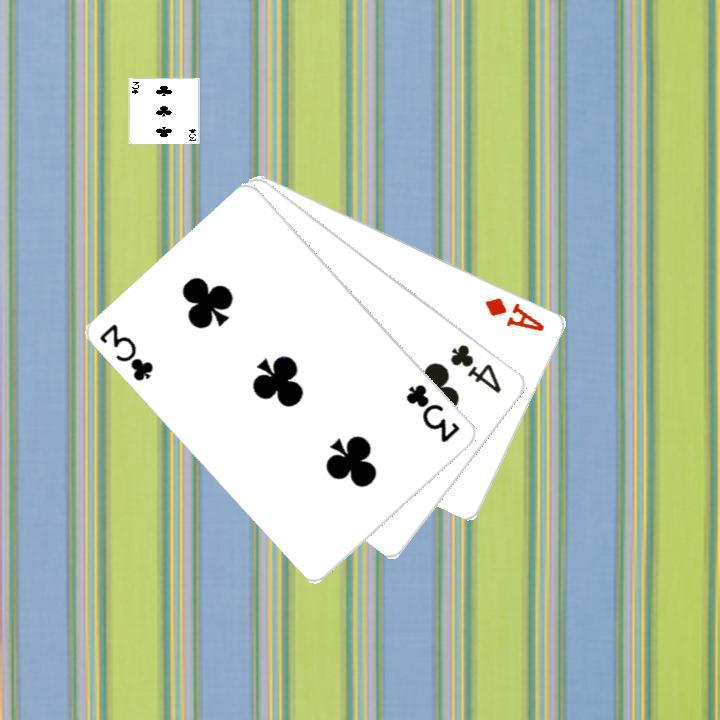3: (402, 379, 463, 445), (95, 319, 156, 384)
4: (446, 339, 504, 395)
A: (481, 292, 547, 334)
